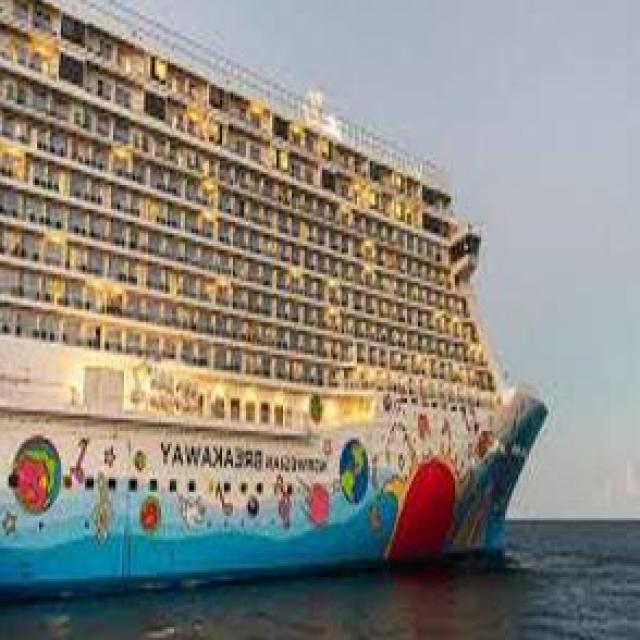passenger ship: (0, 24, 551, 594)
